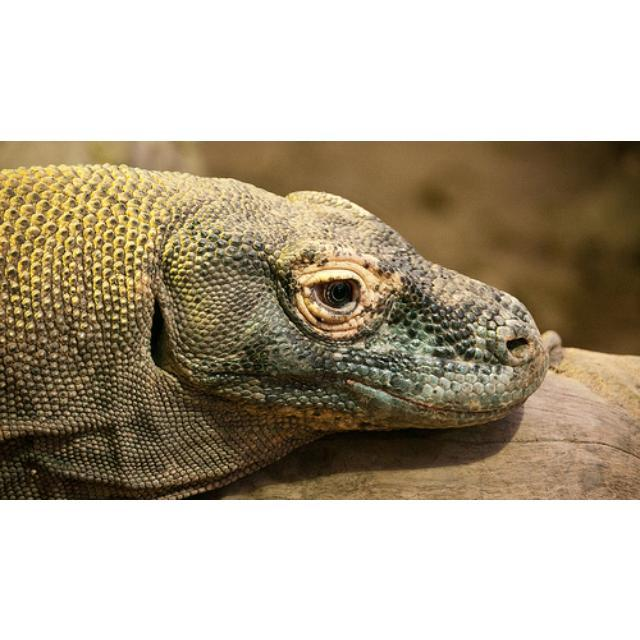KomodoDragon: (1, 162, 546, 497)
